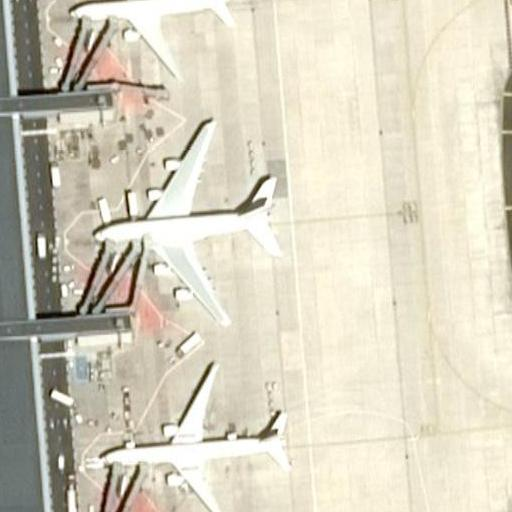Aircraft: (95, 113, 287, 326), (94, 363, 292, 512), (55, 0, 244, 77)
